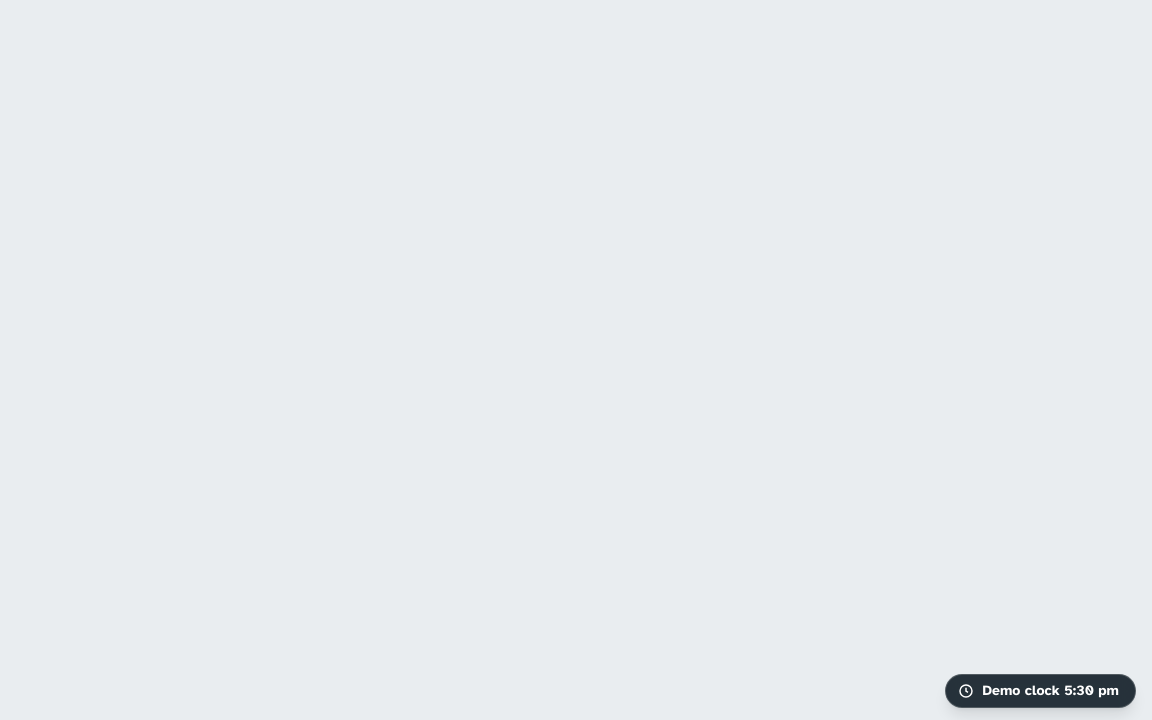
Test case: DemoPanel › disables jumps earlier than the current demo time and jumps to next day 9 am
Later steps or results of the test are not shown.
Click the button with aria-label "Demo controls": x=1041, y=691 [946,674,1136,708]
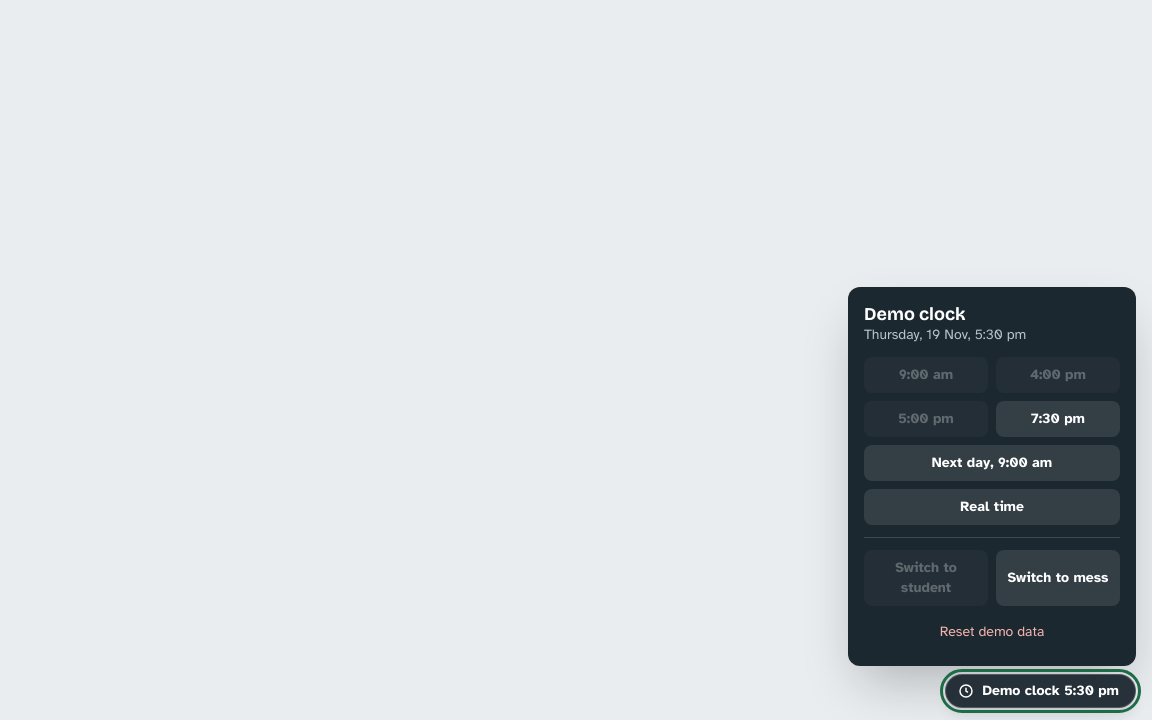
Expected: the button "9:00 am" is disabled, [864,357,988,393]
Expected: the button "4:00 pm" is disabled, [996,357,1120,393]
Expected: the button "7:30 pm" is enabled, [996,401,1120,437]
